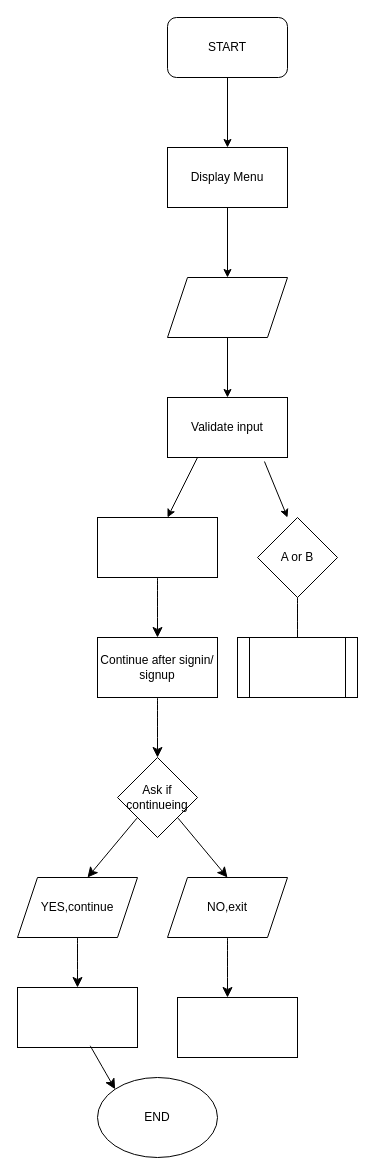
This 375x1175 diagram has some shape labels left out. The centre of each missing label's shape, as x and y in pixels:
"Call Usersignin/signup based on choice" goes at (x=297, y=667).
"Display Error loop to input choice" goes at (x=157, y=547).
"Loop to menu" goes at (x=77, y=1017).
"Program terminates" goes at (x=237, y=1027).
"User provides signin/signup" goes at (x=227, y=307).
